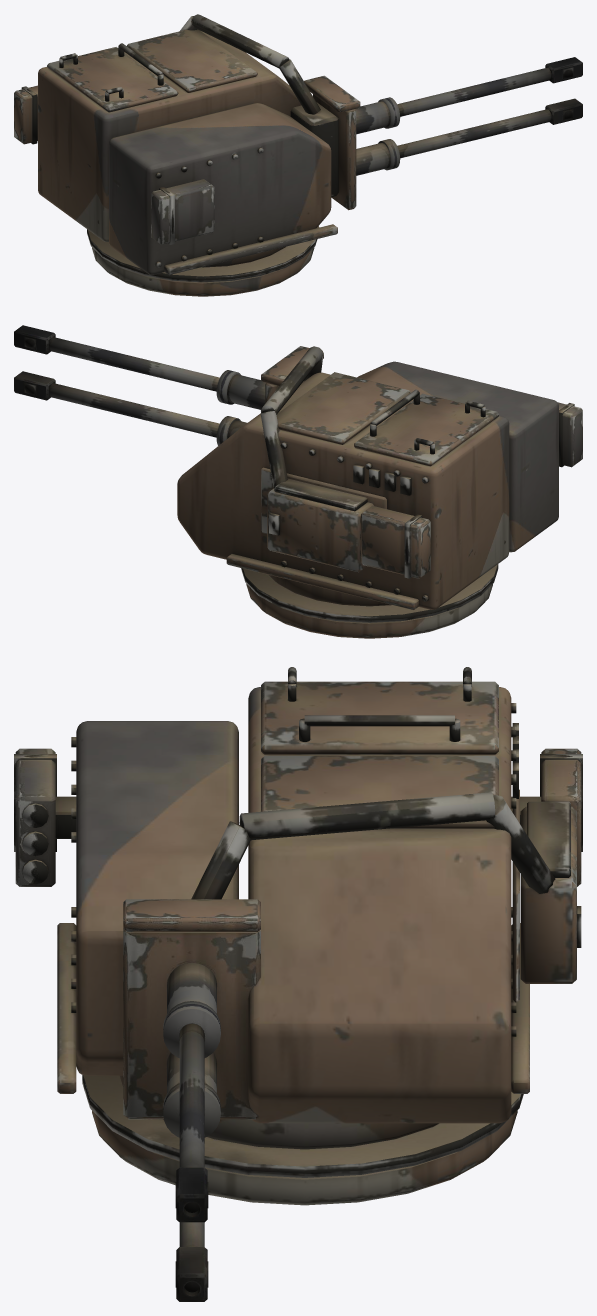
Rendered from turret_grach_t2_rock.glb.
3 renders of one model, top to bottom at view 1: azimuth 30°, elevation 25°; view 2: azimuth 150°, elevation 25°; view 3: azimuth 270°, elevation 25°, orthographic. The views are drawn at different scales.
Visible parts, largest first — view 1: turret_light_t2, guns, pods; view 2: turret_light_t2, guns, pods; view 3: turret_light_t2, guns, pods.
Part boxes in pixels (x1=…): turret_light_t2: x1=38, y1=14, x2=337, y2=296; guns: x1=290, y1=57, x2=582, y2=210; pods: x1=14, y1=85, x2=214, y2=244; turret_light_t2: x1=177, y1=346, x2=558, y2=638; guns: x1=14, y1=325, x2=323, y2=445; pods: x1=360, y1=402, x2=582, y2=578; turret_light_t2: x1=57, y1=667, x2=581, y2=1205; guns: x1=123, y1=899, x2=260, y2=1301; pods: x1=14, y1=748, x2=582, y2=886.
Bounding box in the file's own units: 1.64 × 0.6416 × 0.9088.
3 materials, 3 textured.
